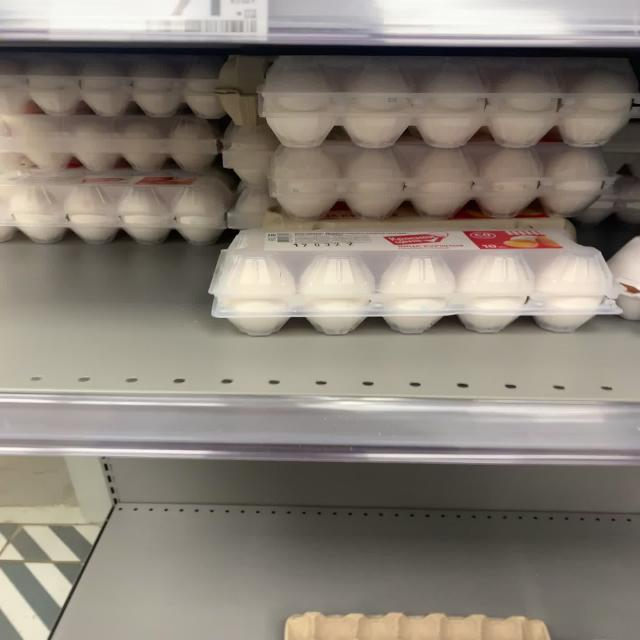egg box: (204, 220, 622, 332)
